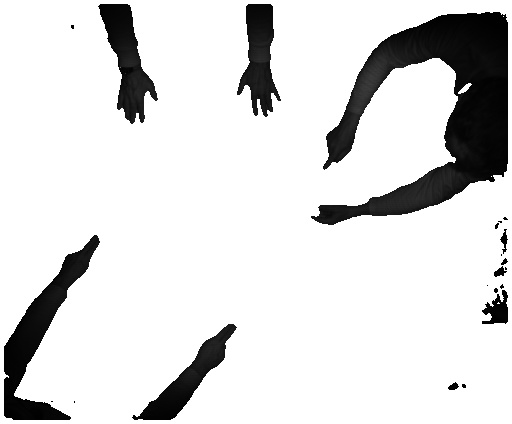hand: (234, 67, 287, 119), (58, 232, 103, 291), (114, 74, 159, 127), (197, 320, 239, 370), (320, 124, 356, 175), (304, 200, 354, 231)
